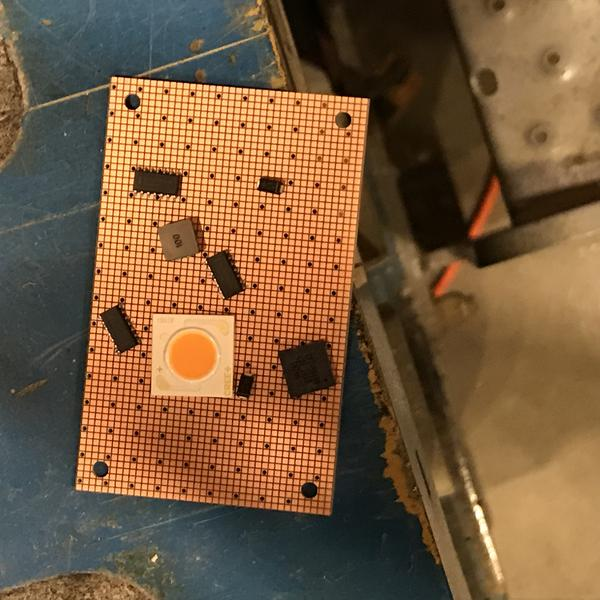board: (72, 75, 371, 516)
